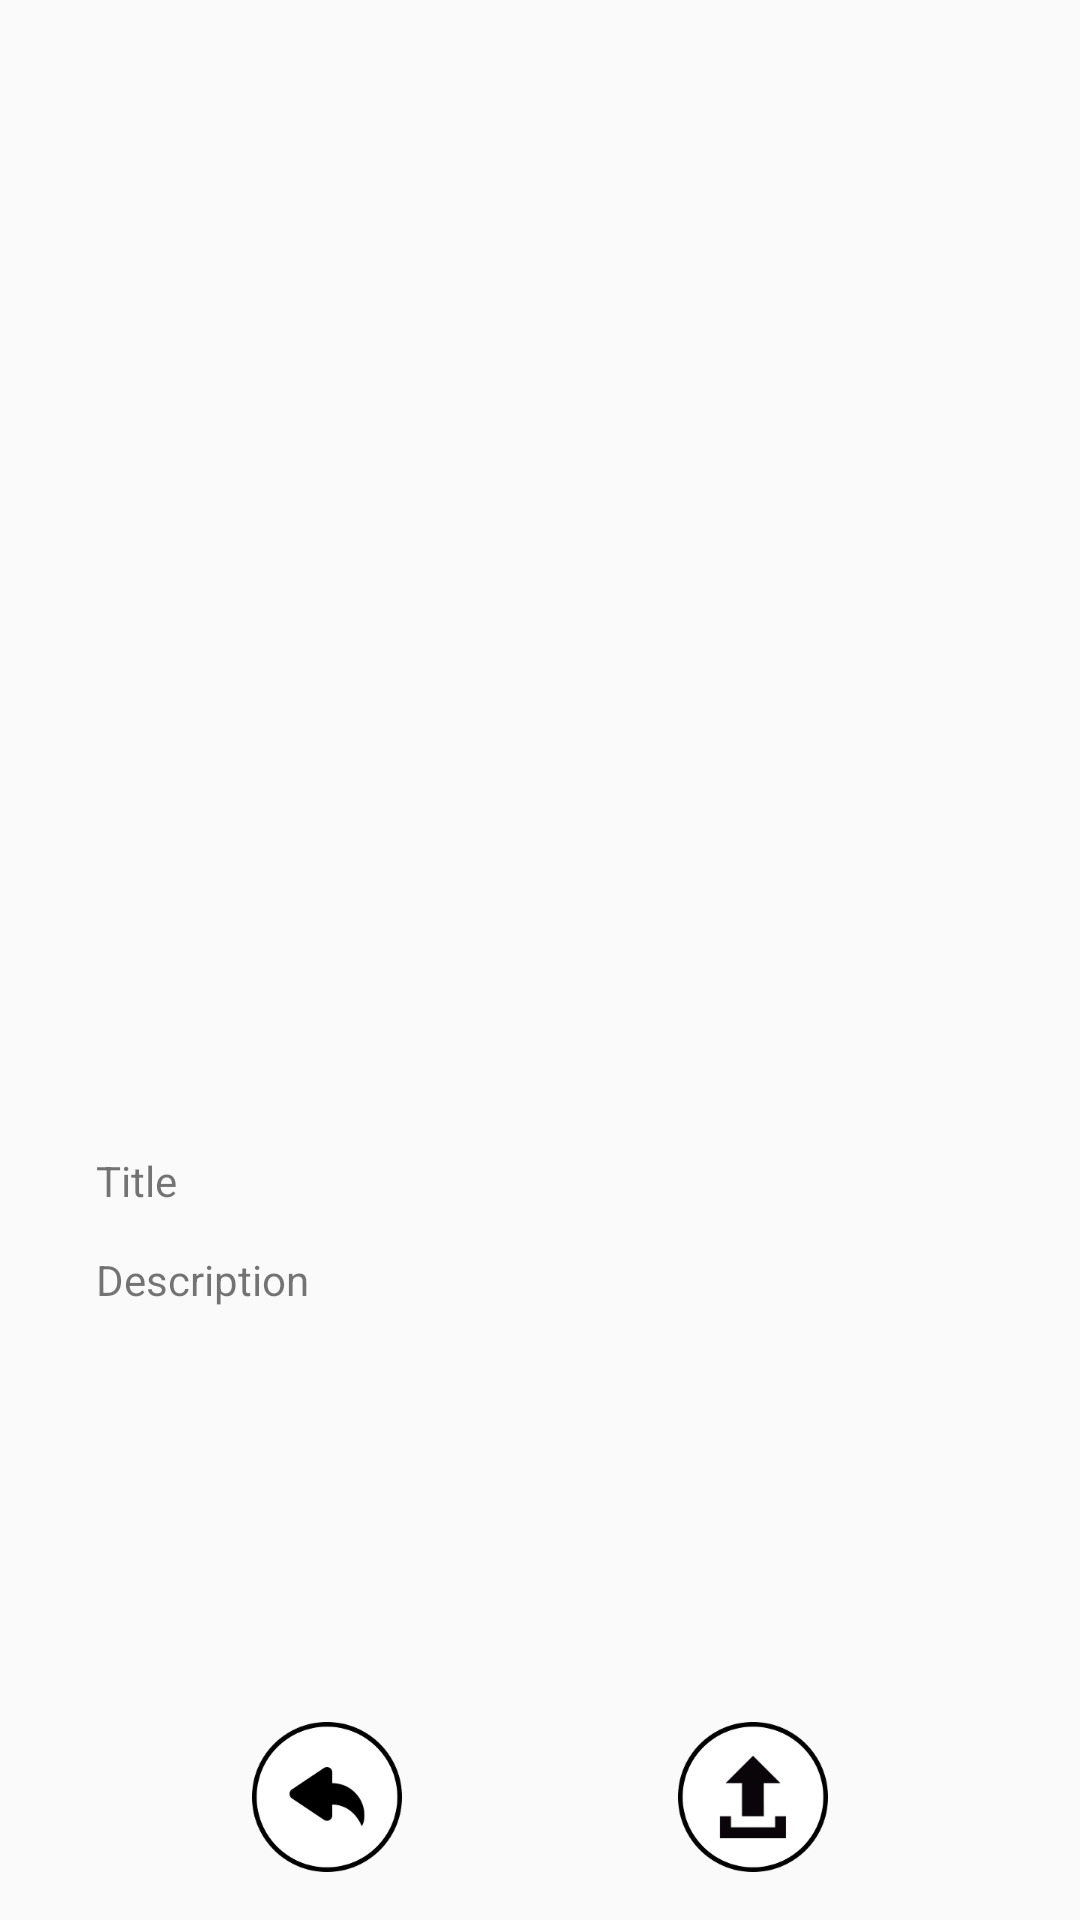

Named icons in this screenshot (1080×1920) and their bounding boxes, (x1, y1, x2, y2):
return: (252, 1722, 402, 1872)
